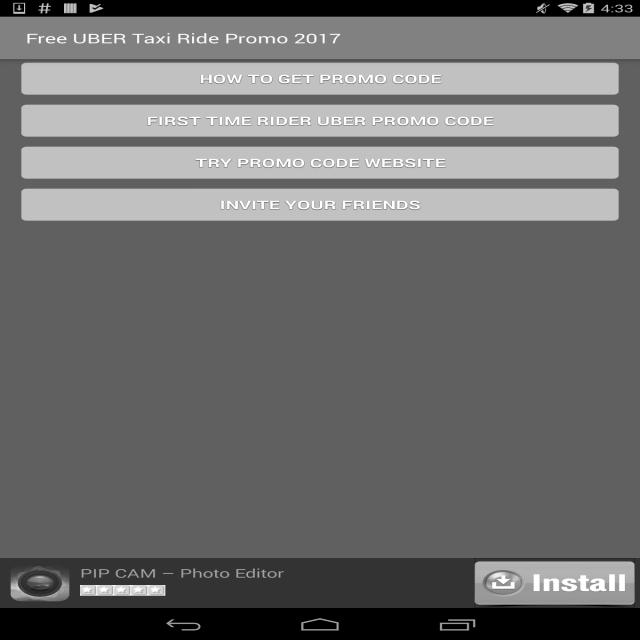Button: (222, 444, 316, 510), (324, 444, 418, 510), (426, 444, 520, 510)
ImageButton: (0, 17, 60, 59)
ImageView: (0, 59, 640, 254), (26, 270, 196, 377), (0, 606, 144, 640), (148, 606, 292, 640), (296, 606, 440, 640), (445, 606, 589, 640), (332, 444, 411, 493), (434, 444, 513, 493), (60, 30, 224, 46), (593, 606, 640, 640), (589, 270, 614, 286), (26, 406, 51, 422), (222, 312, 239, 323), (281, 502, 290, 507)
TextView: (0, 529, 640, 575), (0, 575, 640, 593), (222, 270, 589, 295), (77, 406, 424, 422), (222, 295, 614, 309), (25, 380, 166, 392), (589, 22, 640, 54), (324, 493, 418, 510), (426, 493, 520, 510), (120, 493, 213, 510), (526, 380, 614, 392), (245, 311, 316, 325), (250, 454, 288, 475), (247, 493, 278, 510), (142, 482, 192, 490), (159, 459, 173, 478)
